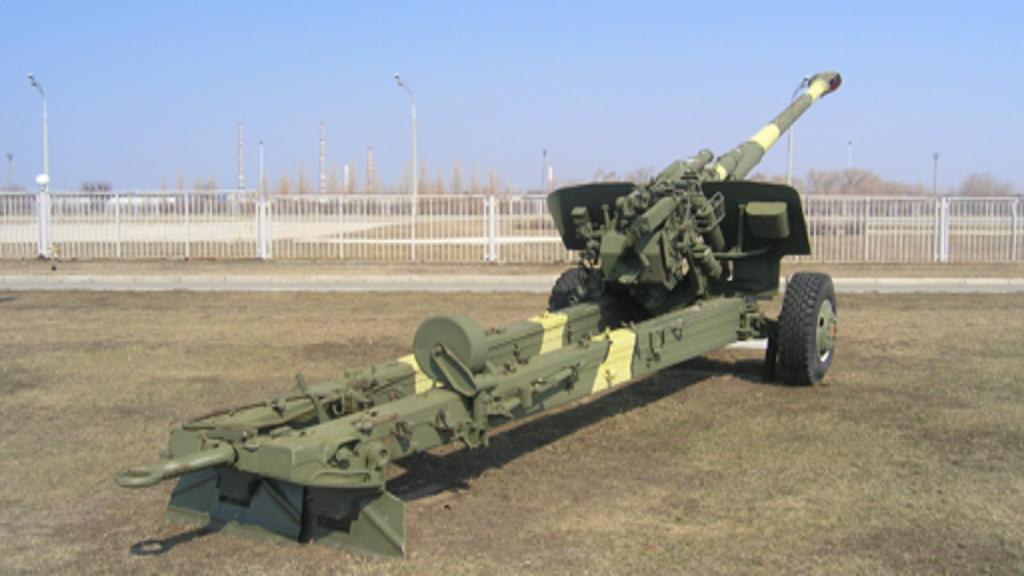ART: (162, 66, 850, 561)
